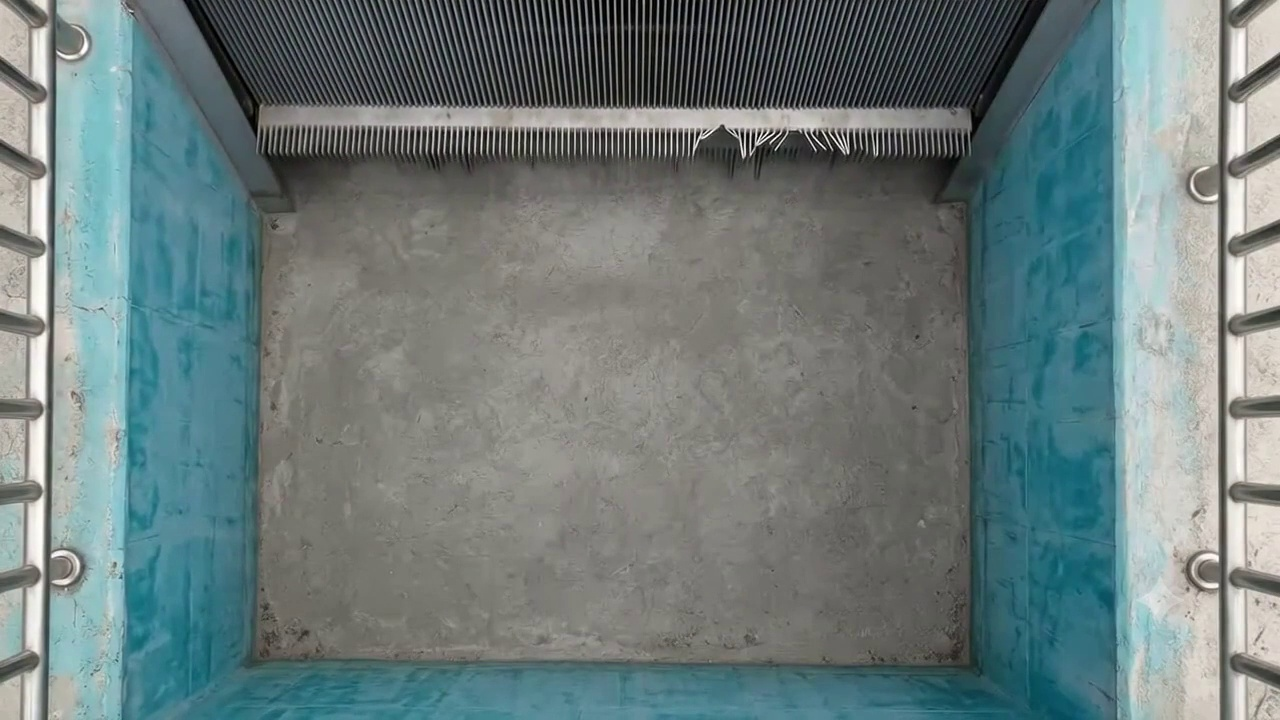damage: (682, 114, 888, 171)
